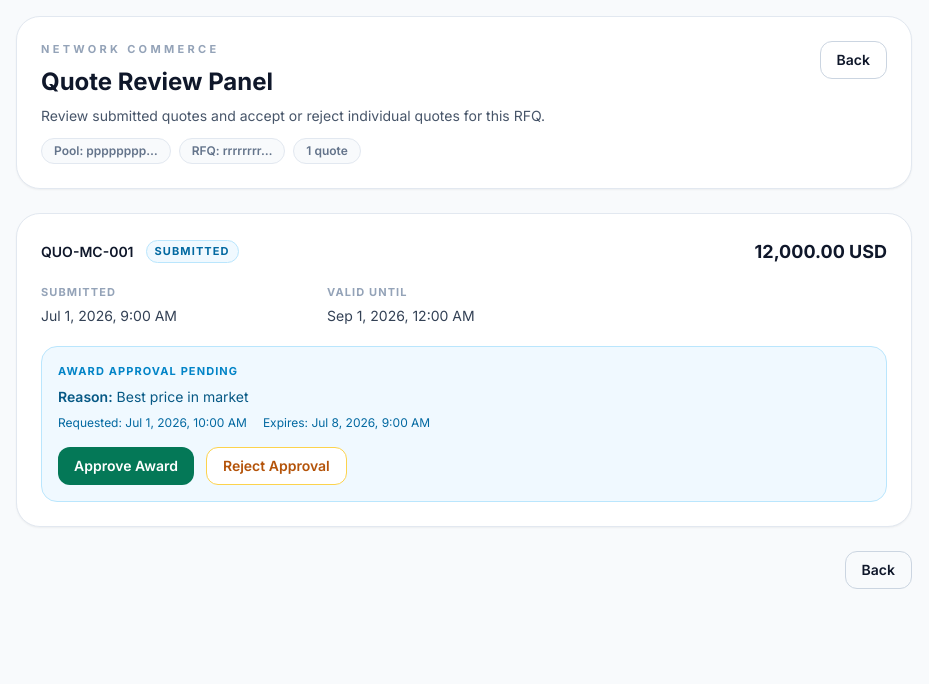
Test: MC-FE-14: MAKER_CHECKER_SAME_ACTOR error renders safe message › shows safe same-actor message when approve returns MAKER_CHECKER_SAME_ACTOR
This screenshot has width=929, height=684.
Click the button with aria-label "approve award for quote quo-mc-001" at (126, 466), box [58, 447, 194, 485]
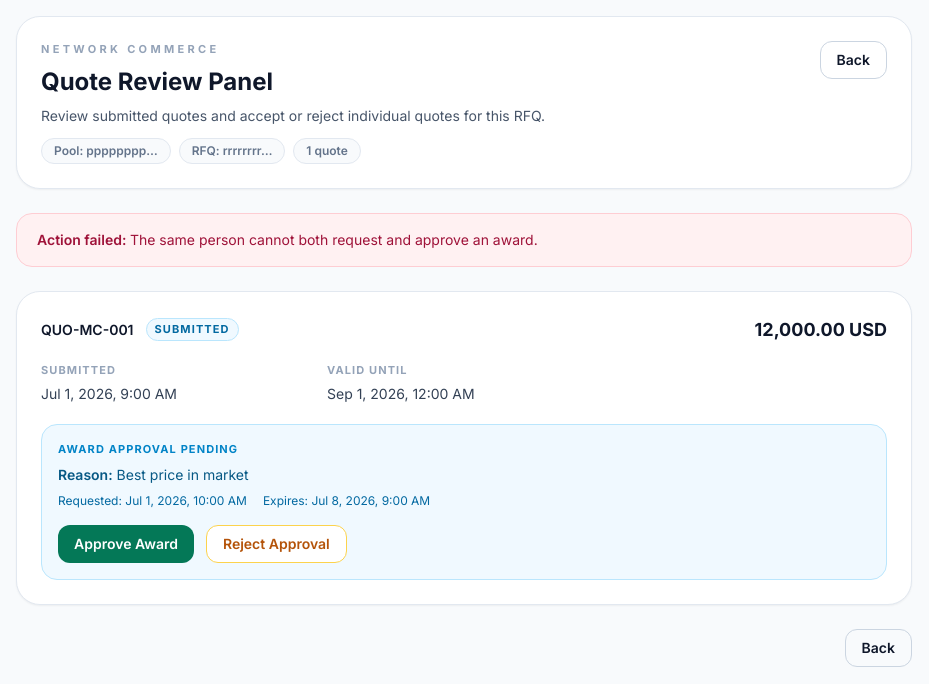
Expected: the text "The same person cannot both request and approve an award." is shown, [130, 230, 538, 248]
